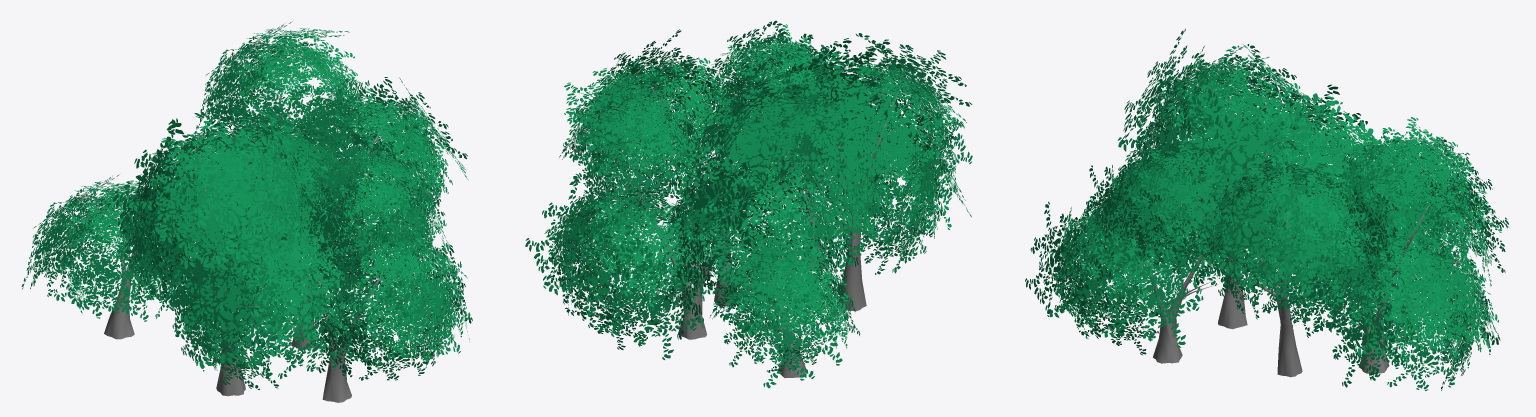
File: L_Bush.fbx
3 renders of one model, left to right at view 1: azimuth 30°, elevation 25°; view 2: azimuth 150°, elevation 25°; view 3: azimuth 270°, elevation 25°, orthographic. The views are drawn at different scales.
Parts seen in each view (by area): view 1: LBush; view 2: LBush; view 3: LBush.
Part boxes in pixels (<box>): LBush: <box>21,21,472,402</box>; LBush: <box>525,20,972,388</box>; LBush: <box>1025,28,1509,390</box>.
Size of the model in its own units: 387 by 289 by 455.
